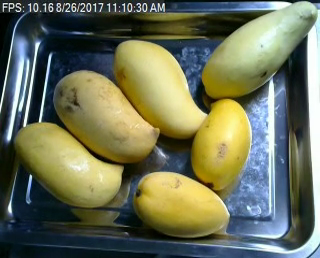Mango: (196, 1, 316, 100), (50, 67, 161, 165), (112, 35, 208, 140), (12, 119, 123, 209), (131, 169, 233, 242), (190, 99, 250, 191)
